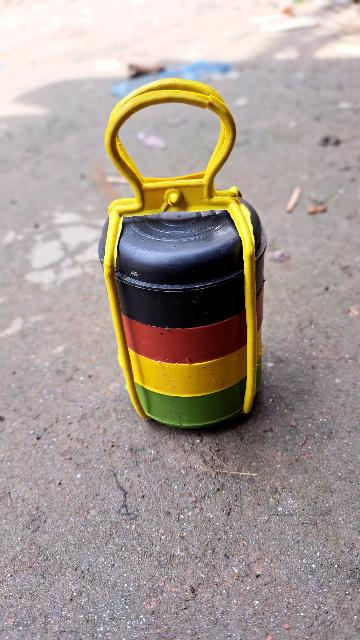hardplastic: (102, 87, 274, 427)
